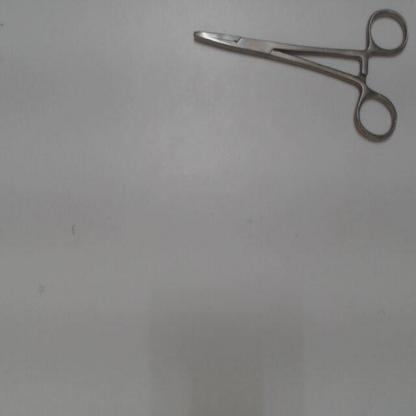Mayo Needle Holder: (188, 4, 414, 154)
